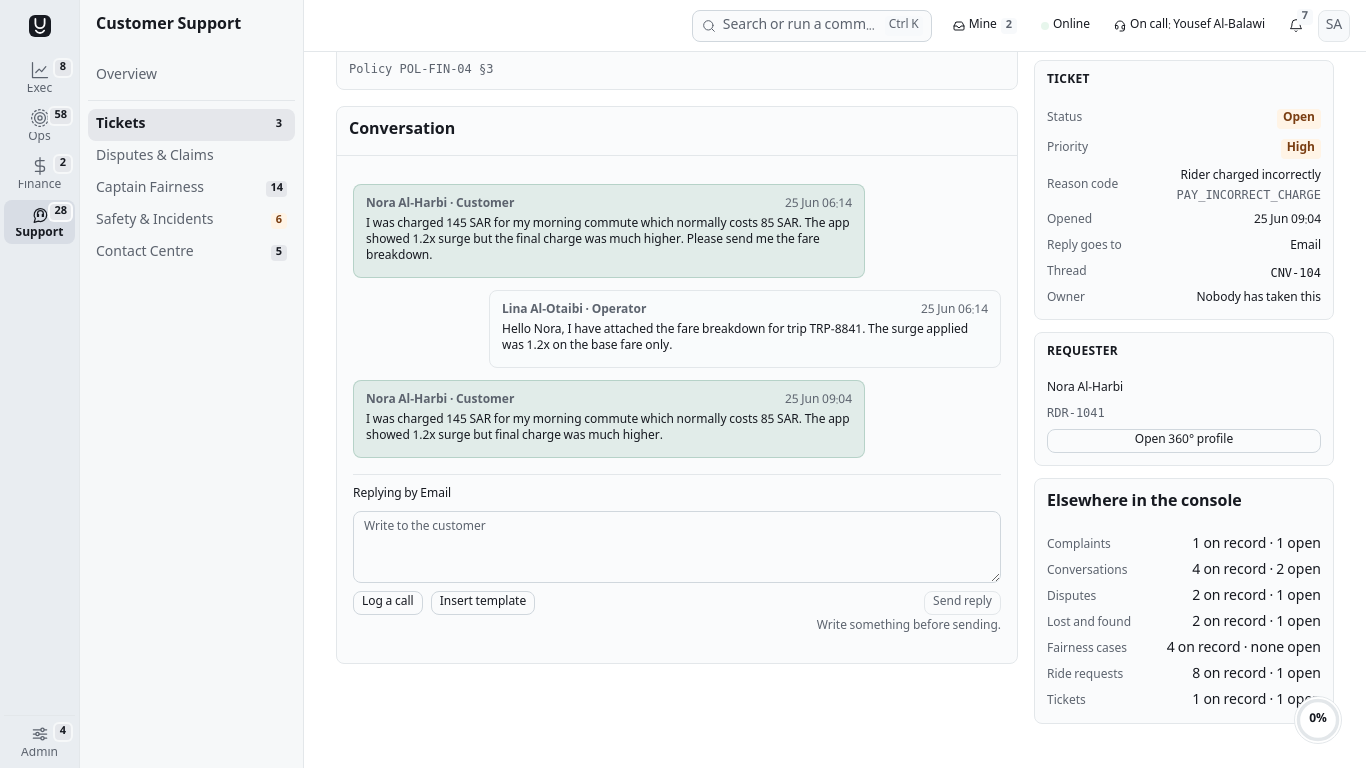
Test case: a logged call is recorded rather than toasted › collects the outcome and the note through the modal and persists them
(page scrolled)
Expected: the text "Conversation" is shown, left=349, top=117, right=455, bottom=144
Click the button "Log a call" at (388, 603), box left=353, top=591, right=423, bottom=615
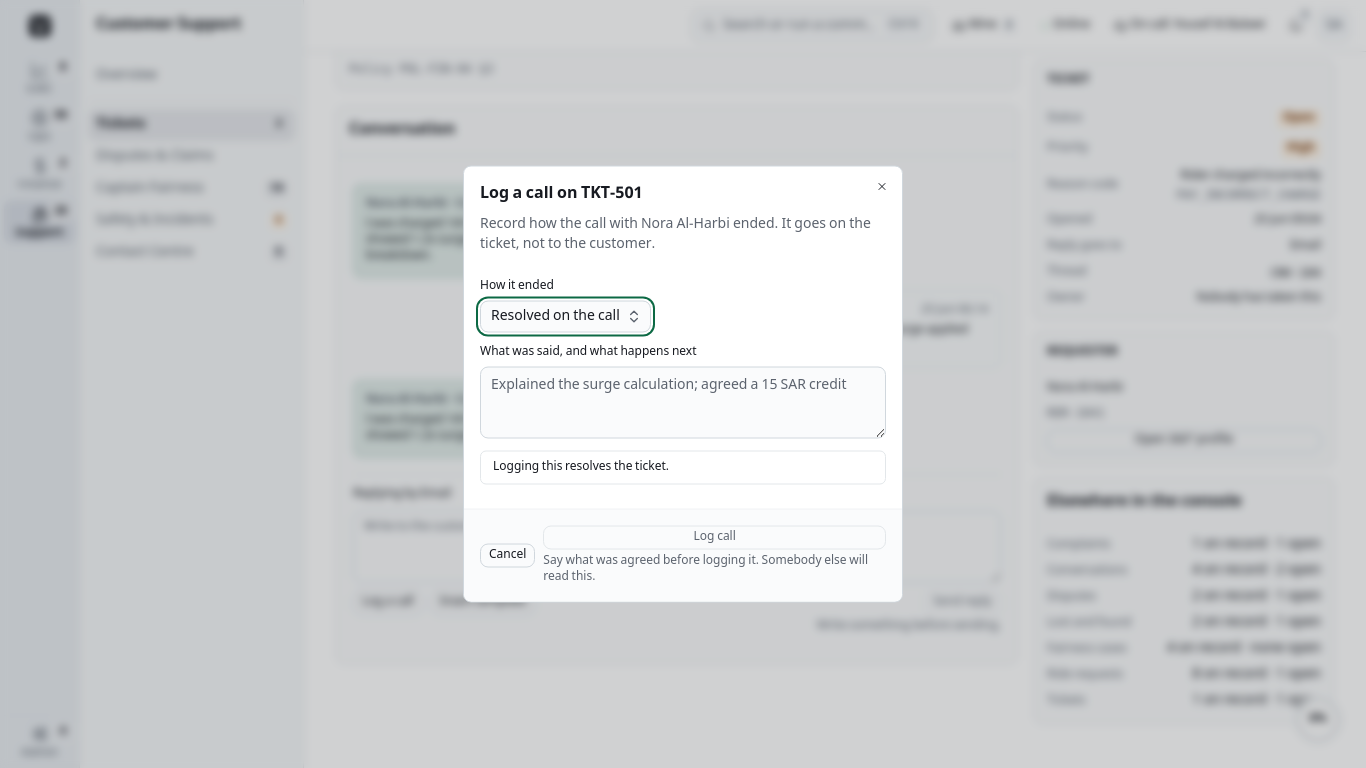
Type "Explained the gantry charge." into the text box labelled "What was said, and what happens next" at (683, 402), box left=480, top=366, right=886, bottom=438
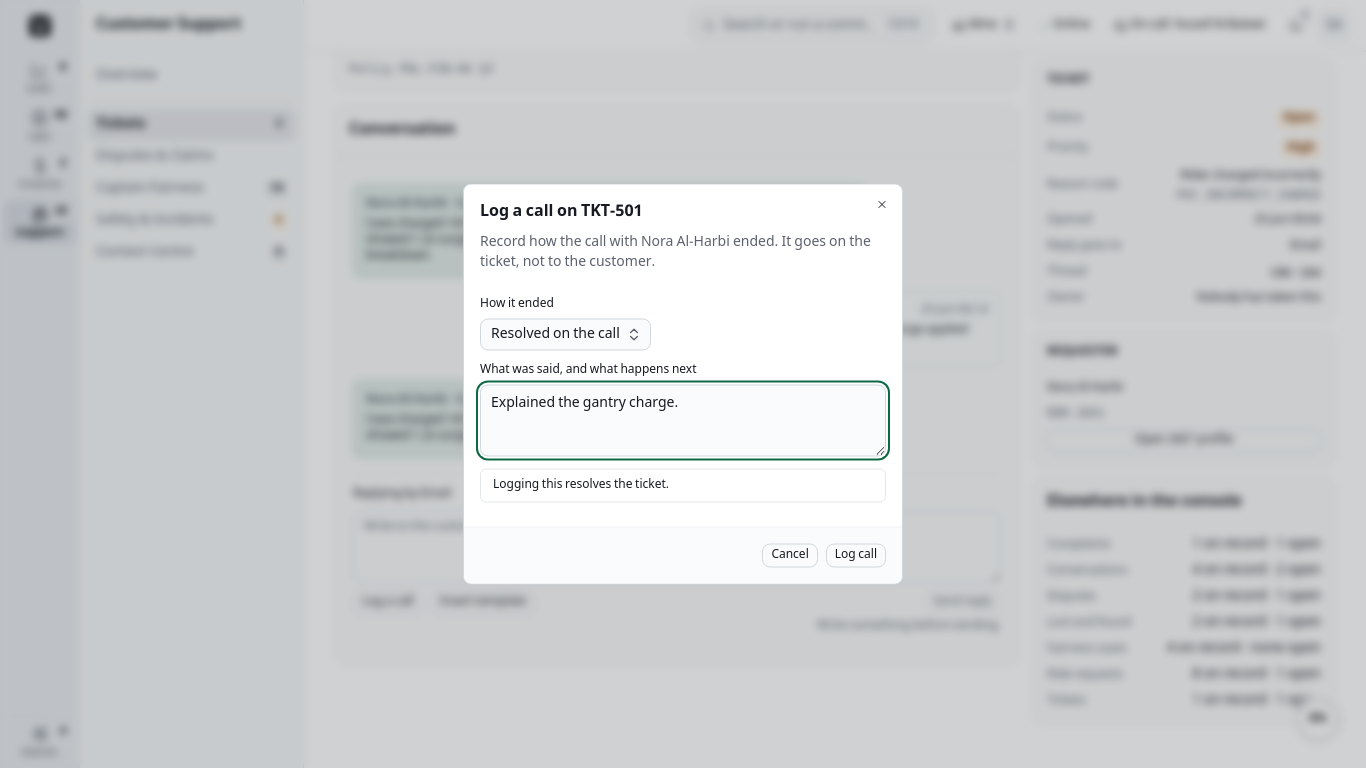
Click the button "Log call" at (856, 556), box left=826, top=544, right=886, bottom=568
(page scrolled)
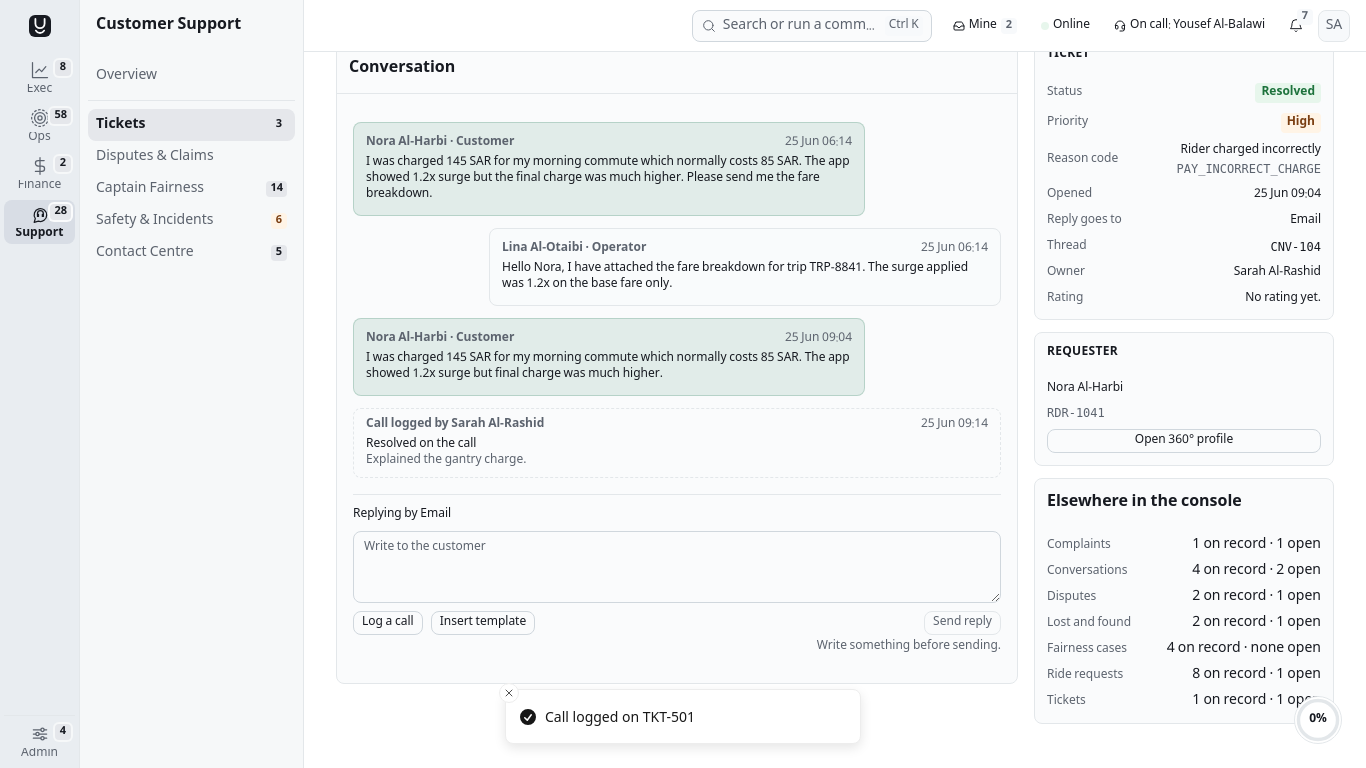
Expected: the text "Explained the gantry charge." is shown, left=366, top=450, right=526, bottom=471
